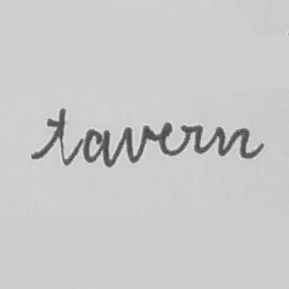a: (80, 125, 113, 167)
e: (155, 120, 178, 159)
n: (213, 123, 252, 160)
r: (178, 121, 205, 156)
t: (45, 107, 74, 168)
v: (120, 122, 152, 165)
